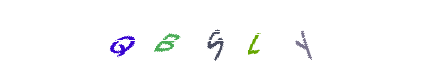B: (157, 0, 237, 80)
L: (178, 0, 258, 80)
Q: (82, 0, 162, 80)
S: (162, 0, 242, 80)
Y: (208, 0, 288, 80)
